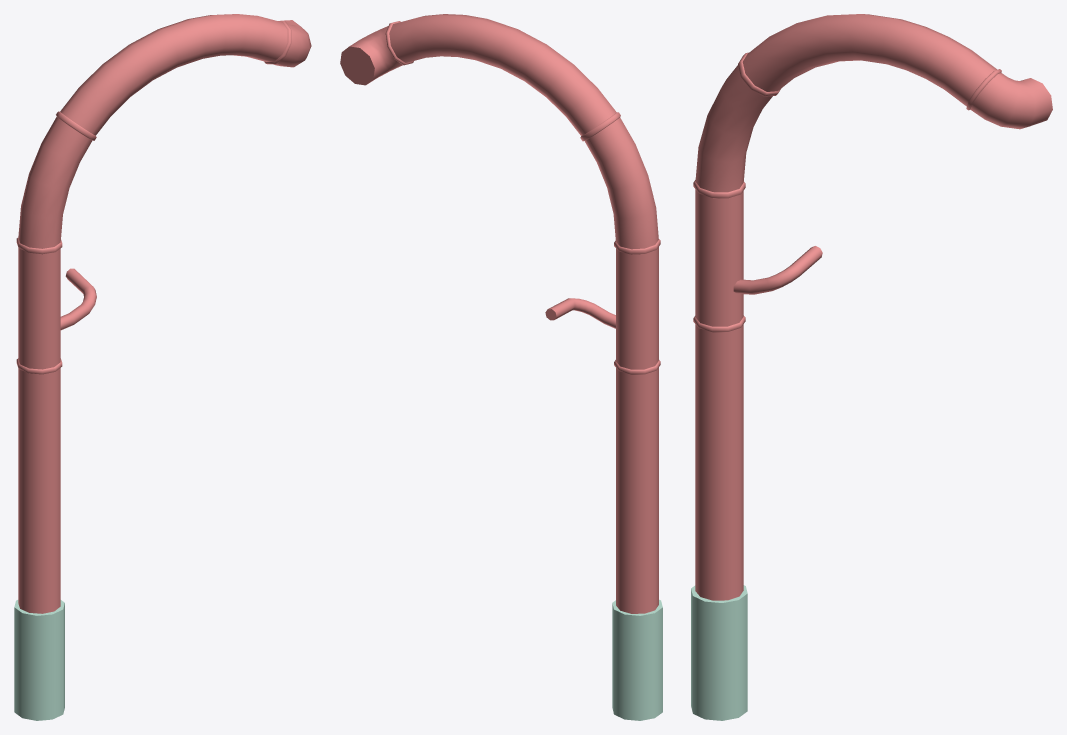
File: SP_House06_Pipe03.fbx
3 renders of one model, left to right at view 1: azimuth 30°, elevation 25°; view 2: azimuth 150°, elevation 25°; view 3: azimuth 330°, elevation 25°, orthographic. The views are drawn at different scales.
Visible parts, largest first — view 1: SP_House06_Pipe03; view 2: SP_House06_Pipe03; view 3: SP_House06_Pipe03.
Part boxes in pixels (<box>): SP_House06_Pipe03: <box>14,14,311,720</box>; SP_House06_Pipe03: <box>340,14,662,720</box>; SP_House06_Pipe03: <box>691,14,1052,720</box>.
Size of the model in its own units: 4.73 by 9.77 by 1.1.
